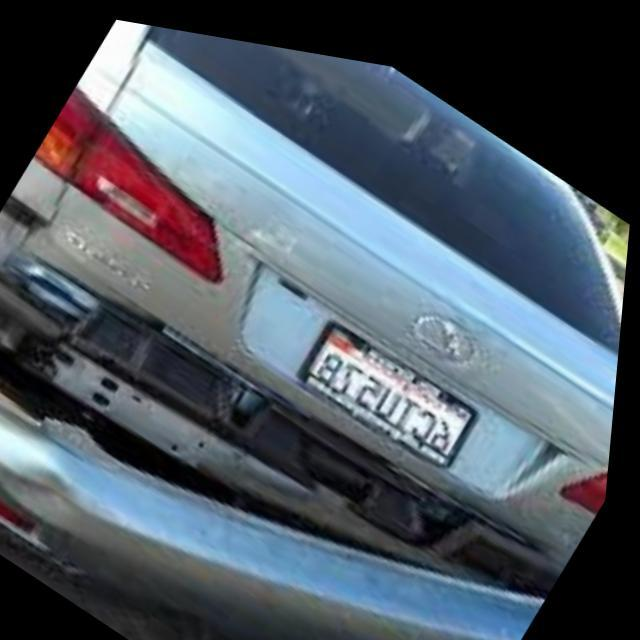dislocated part: (0, 223, 575, 640)
